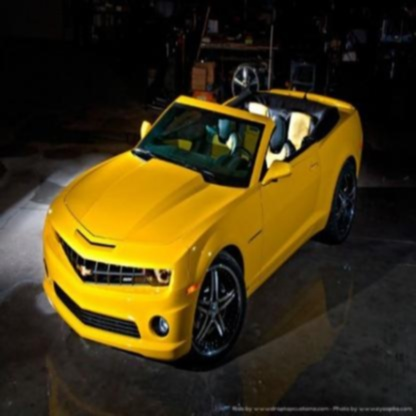Vehicle: (40, 82, 366, 378)
